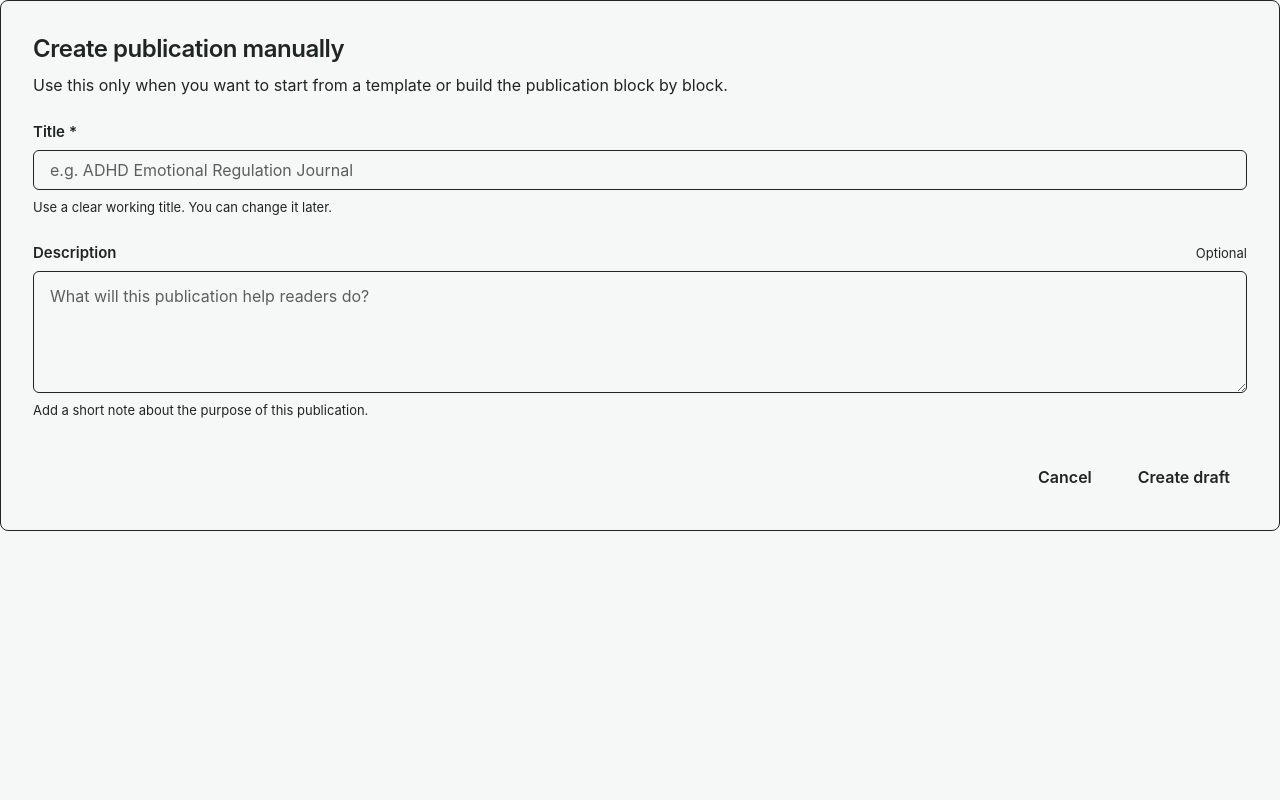
Test: PublicationCreateForm › clears the title error after editing
Click the button "Create draft".
click(1184, 477)  # box [1121, 456, 1247, 498]
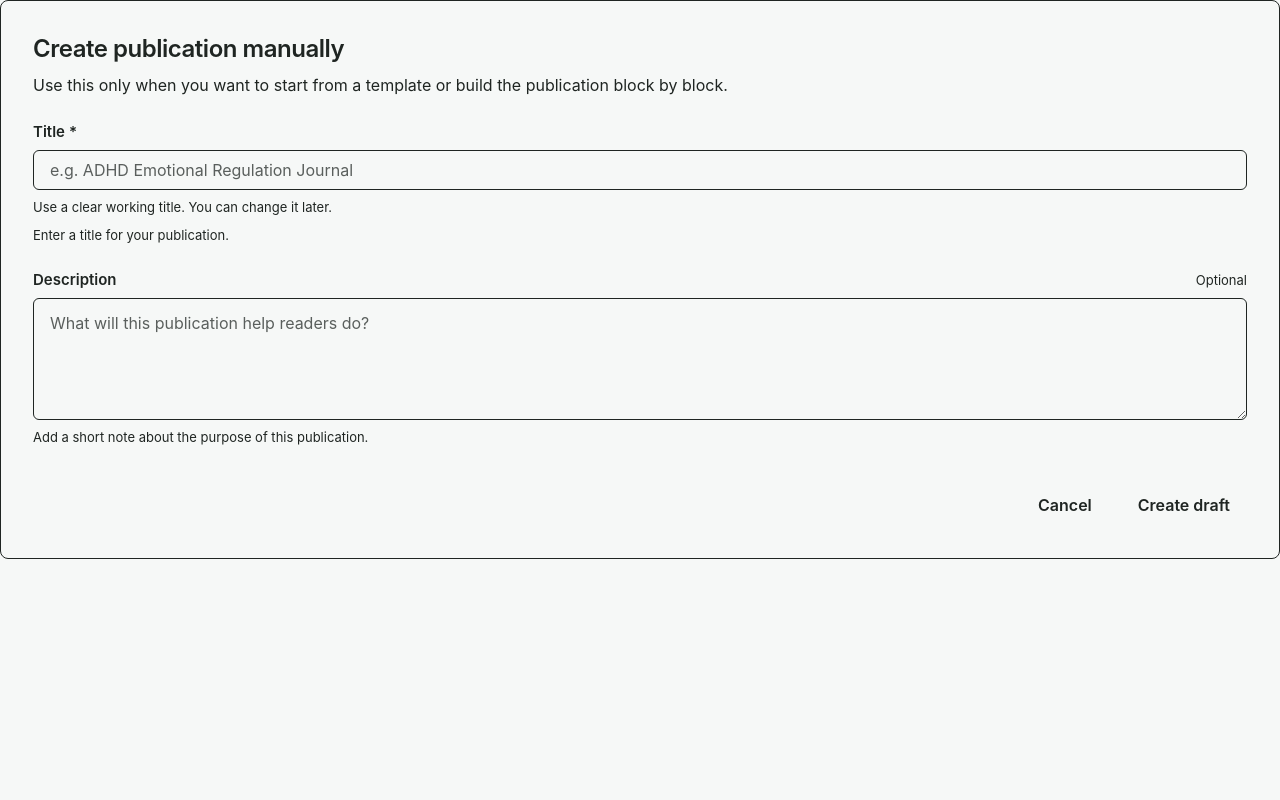
Now the text "Enter a title for your publication." is shown, box [33, 226, 229, 242]
Type "Gentle Focus Journal" into the field labelled "Title *".
click(640, 170); type("Gentle Focus Journal")  # box [50, 158, 1230, 182]
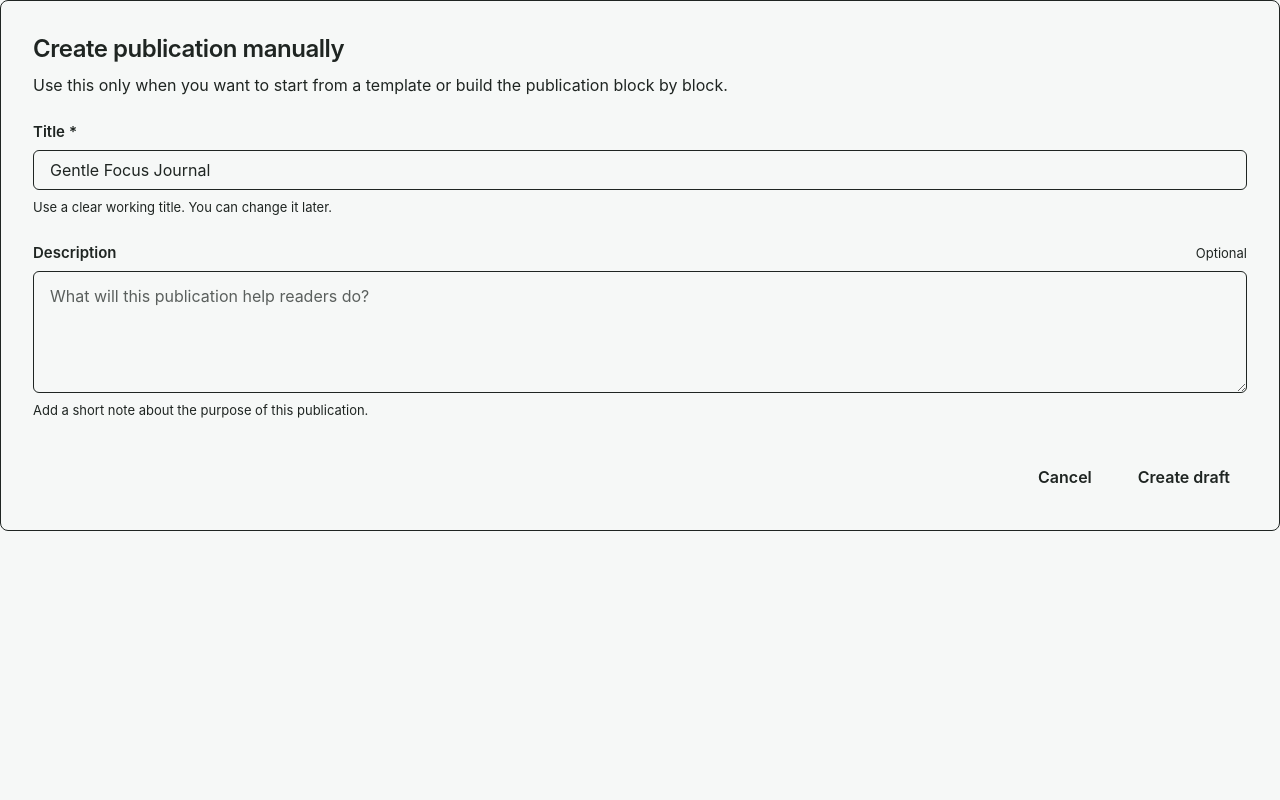
Now the text "Enter a title for your publication." is gone
